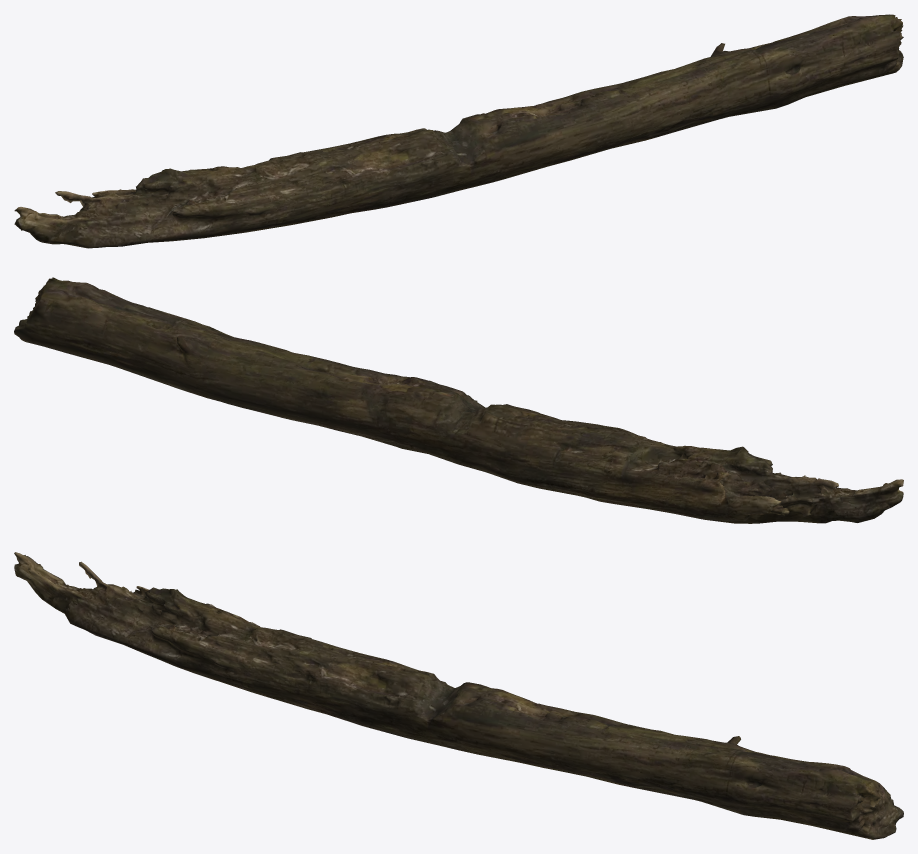
Rendered from dead_tree_trunk.glb.
3 views of the same model, one above another, from view 1: azimuth 30°, elevation 25°; view 2: azimuth 150°, elevation 25°; view 3: azimuth 330°, elevation 25° (orthographic).
Parts seen in each view (by area): view 1: dead_tree_trunk; view 2: dead_tree_trunk; view 3: dead_tree_trunk.
Part boxes in pixels (x1=…): dead_tree_trunk: x1=14, y1=14, x2=903, y2=248; dead_tree_trunk: x1=14, y1=277, x2=903, y2=523; dead_tree_trunk: x1=14, y1=552, x2=903, y2=839.
Size of the model in its own units: 3.05 by 0.2906 by 0.2772.
Materials: 1 (1 with a texture image).
